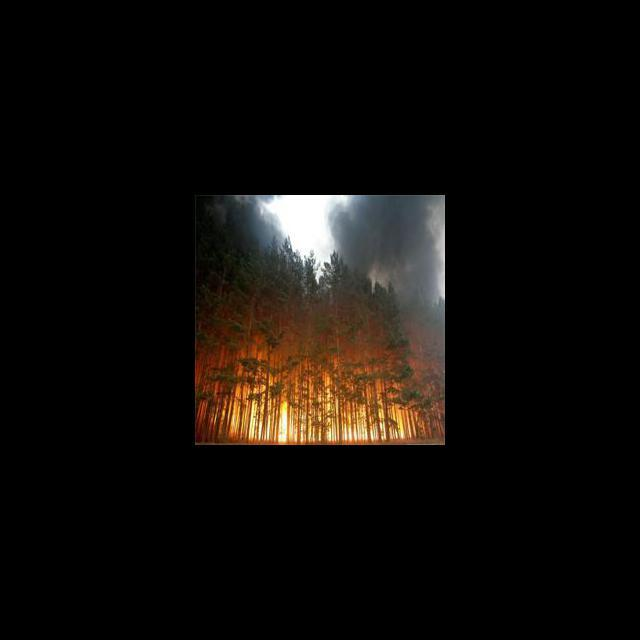Fire: (201, 355, 444, 444)
Smoke: (335, 200, 444, 303)
